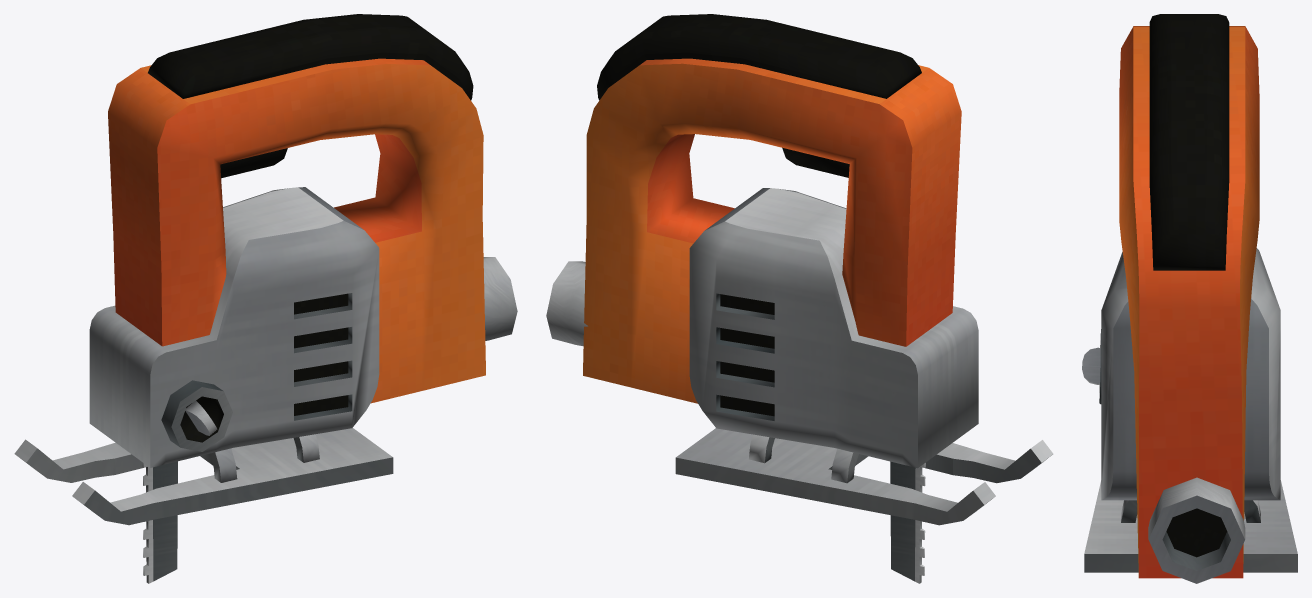
Rendered from pendular_saw.fbx.
3 views of the same model, side by side, from view 1: azimuth 30°, elevation 25°; view 2: azimuth 150°, elevation 25°; view 3: azimuth 270°, elevation 25° (orthographic). The views are drawn at different scales.
Visible parts, largest first — view 1: pendular_saw; view 2: pendular_saw; view 3: pendular_saw.
Boxes of the visible parts, x1,y1,x2,y2 form: pendular_saw: (14, 14, 517, 583); pendular_saw: (546, 14, 1053, 583); pendular_saw: (1082, 14, 1297, 583).
Size of the model in its own units: 33.63 by 36.81 by 12.43.
